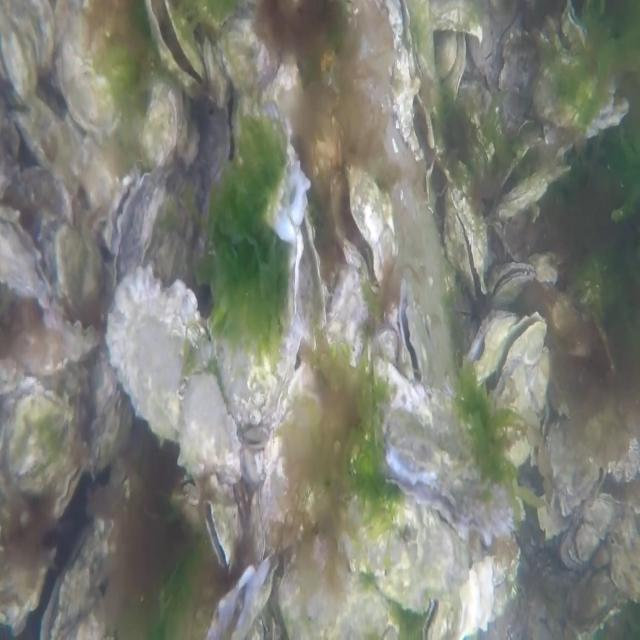Oyster-Closed: (60, 6, 128, 136), (493, 164, 571, 224), (50, 447, 96, 532), (50, 307, 104, 356)
Oyster-Indeterminate: (110, 273, 244, 484), (345, 502, 472, 616), (1, 385, 82, 492), (20, 102, 88, 204), (54, 221, 113, 322), (140, 90, 182, 178)
Oyster-Open: (221, 5, 312, 247), (384, 406, 518, 550), (40, 520, 120, 640), (331, 160, 394, 299), (0, 205, 67, 316), (143, 0, 213, 105), (490, 312, 549, 422), (0, 0, 56, 111), (442, 191, 490, 302), (293, 213, 328, 353), (106, 162, 152, 266), (465, 309, 519, 380), (395, 285, 429, 390), (204, 501, 240, 570), (492, 261, 535, 303)
